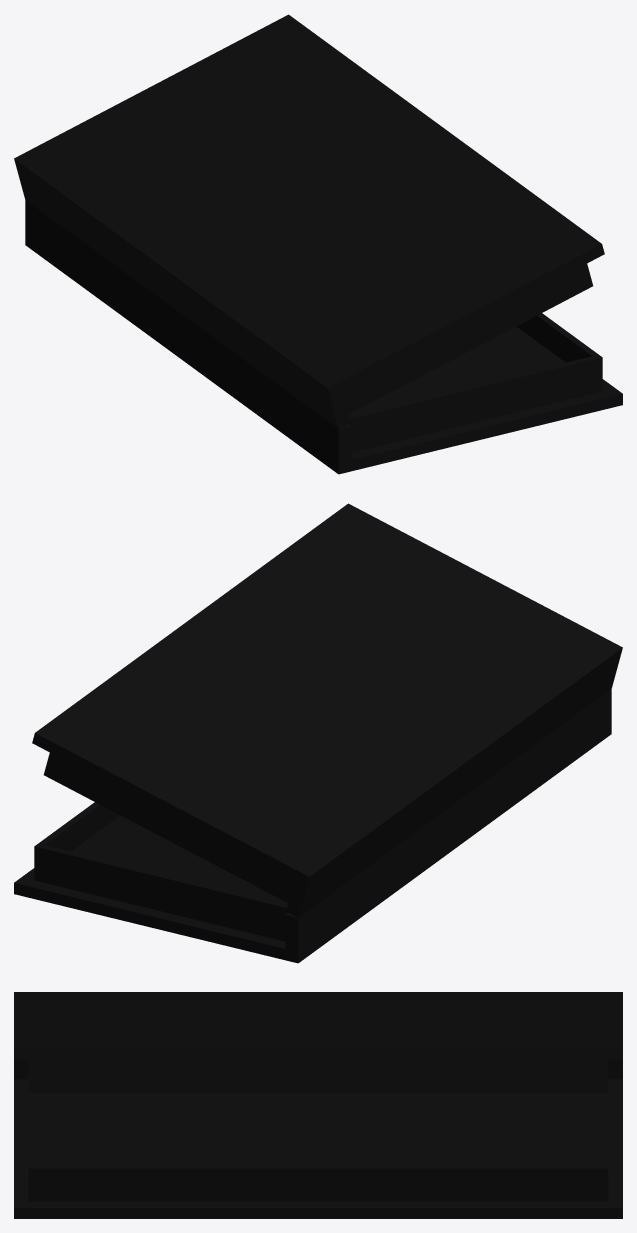
File: VHSBox_01.glb
The picture shows the model from 3 angles, top to bottom: view 1: azimuth 30°, elevation 25°; view 2: azimuth 150°, elevation 25°; view 3: azimuth 270°, elevation 25°; orthographic projection. The views are drawn at different scales.
Parts seen in each view (by area): view 1: Mesh_VHSBox_01; view 2: Mesh_VHSBox_01; view 3: Mesh_VHSBox_01.
Part boxes in pixels (bbox=[...]): Mesh_VHSBox_01: bbox=[14, 14, 622, 474]; Mesh_VHSBox_01: bbox=[14, 503, 622, 963]; Mesh_VHSBox_01: bbox=[14, 992, 622, 1218].
Size of the model in its own units: 0.1143 by 0.0615 by 0.21.
1 material, 1 textured.
